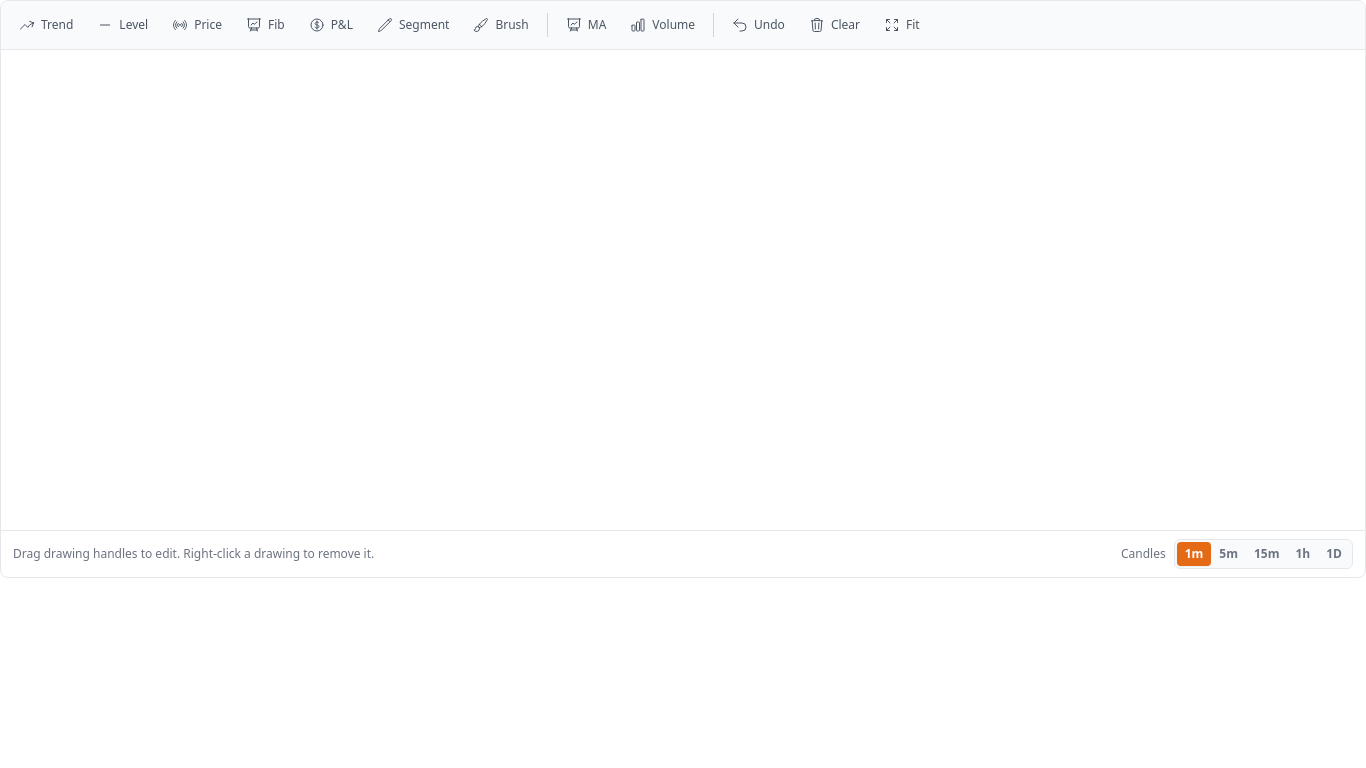
Test case: KLineTradeChart › starts editable support and resistance drawing mode
Click the button titled "Draw an editable support or resistance level" at (123, 25), box x1=87 y1=9 x2=158 y2=41
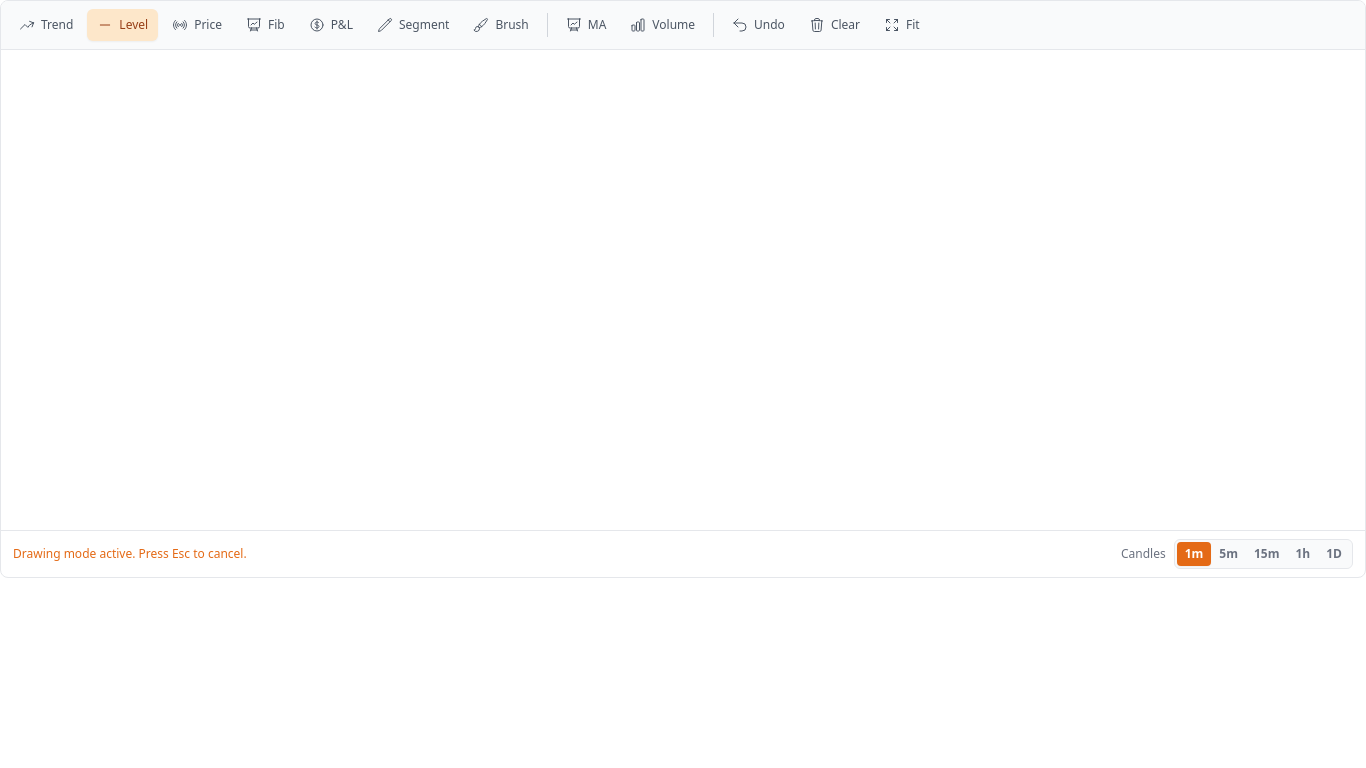
Result: the text "Drawing mode active" is shown at x1=13 y1=545 x2=247 y2=562
